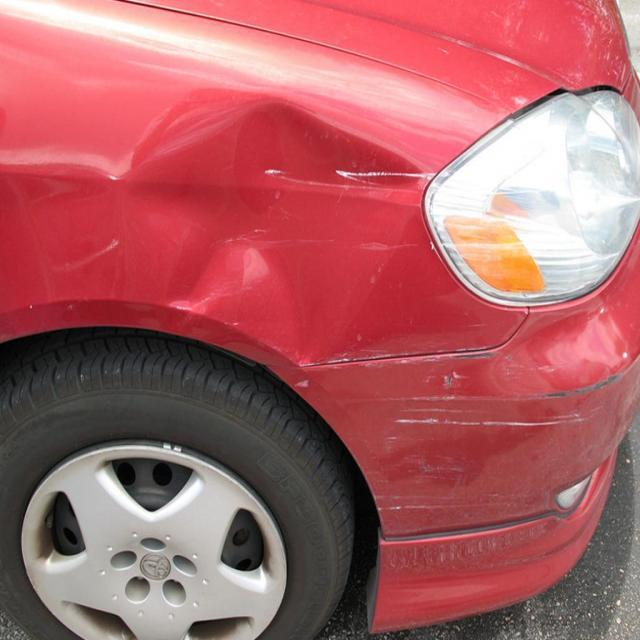dent: (115, 70, 438, 382)
